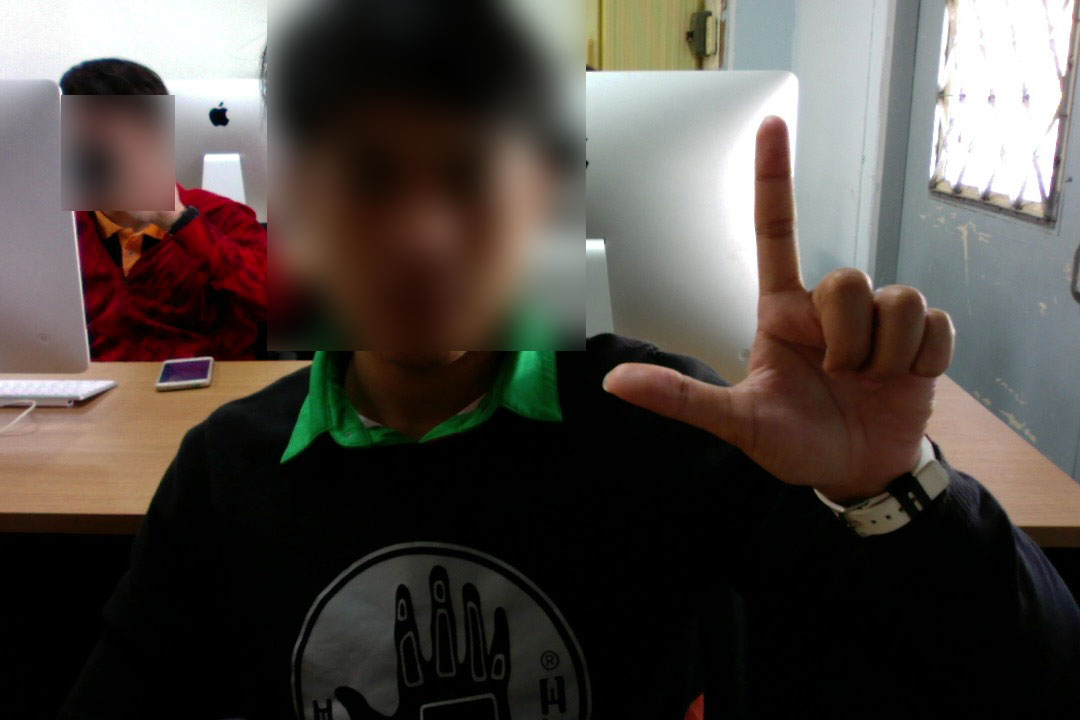lor: (590, 99, 981, 504)
